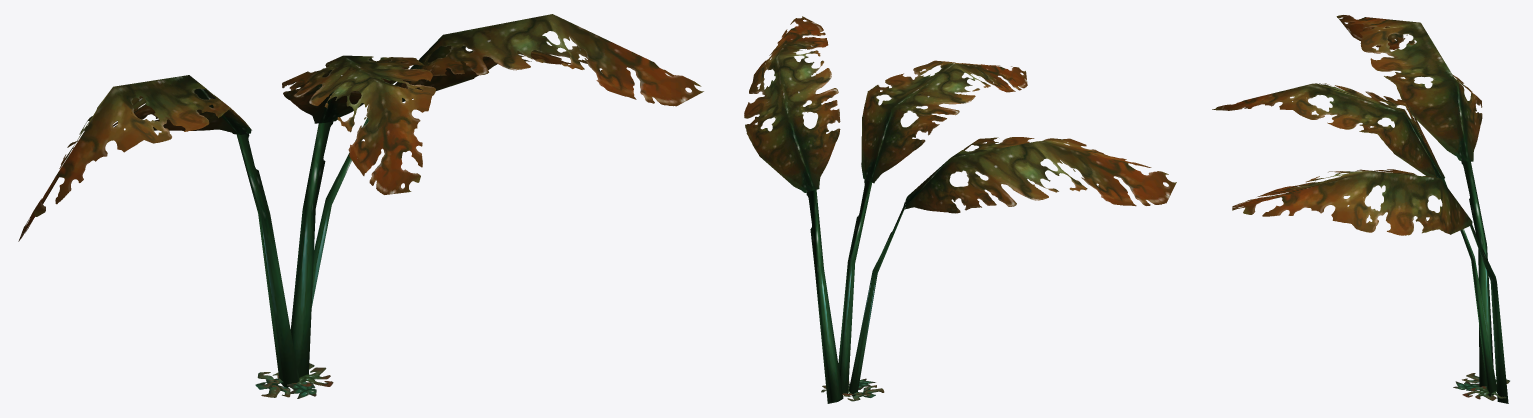
The model's file is stemple_broadleaf_straight_01.fbx.
3 renders of one model, left to right at view 1: azimuth 30°, elevation 25°; view 2: azimuth 150°, elevation 25°; view 3: azimuth 270°, elevation 25°, orthographic. The views are drawn at different scales.
Visible parts, largest first — view 1: sunken_tileset/sunken_plants01_mat; view 2: sunken_tileset/sunken_plants01_mat; view 3: sunken_tileset/sunken_plants01_mat.
Part boxes in pixels (x1=…): sunken_tileset/sunken_plants01_mat: x1=18, y1=14, x2=703, y2=398; sunken_tileset/sunken_plants01_mat: x1=744, y1=16, x2=1176, y2=403; sunken_tileset/sunken_plants01_mat: x1=1212, y1=15, x2=1509, y2=403.
Size of the model in its own units: 9.55 by 6 by 5.62.
